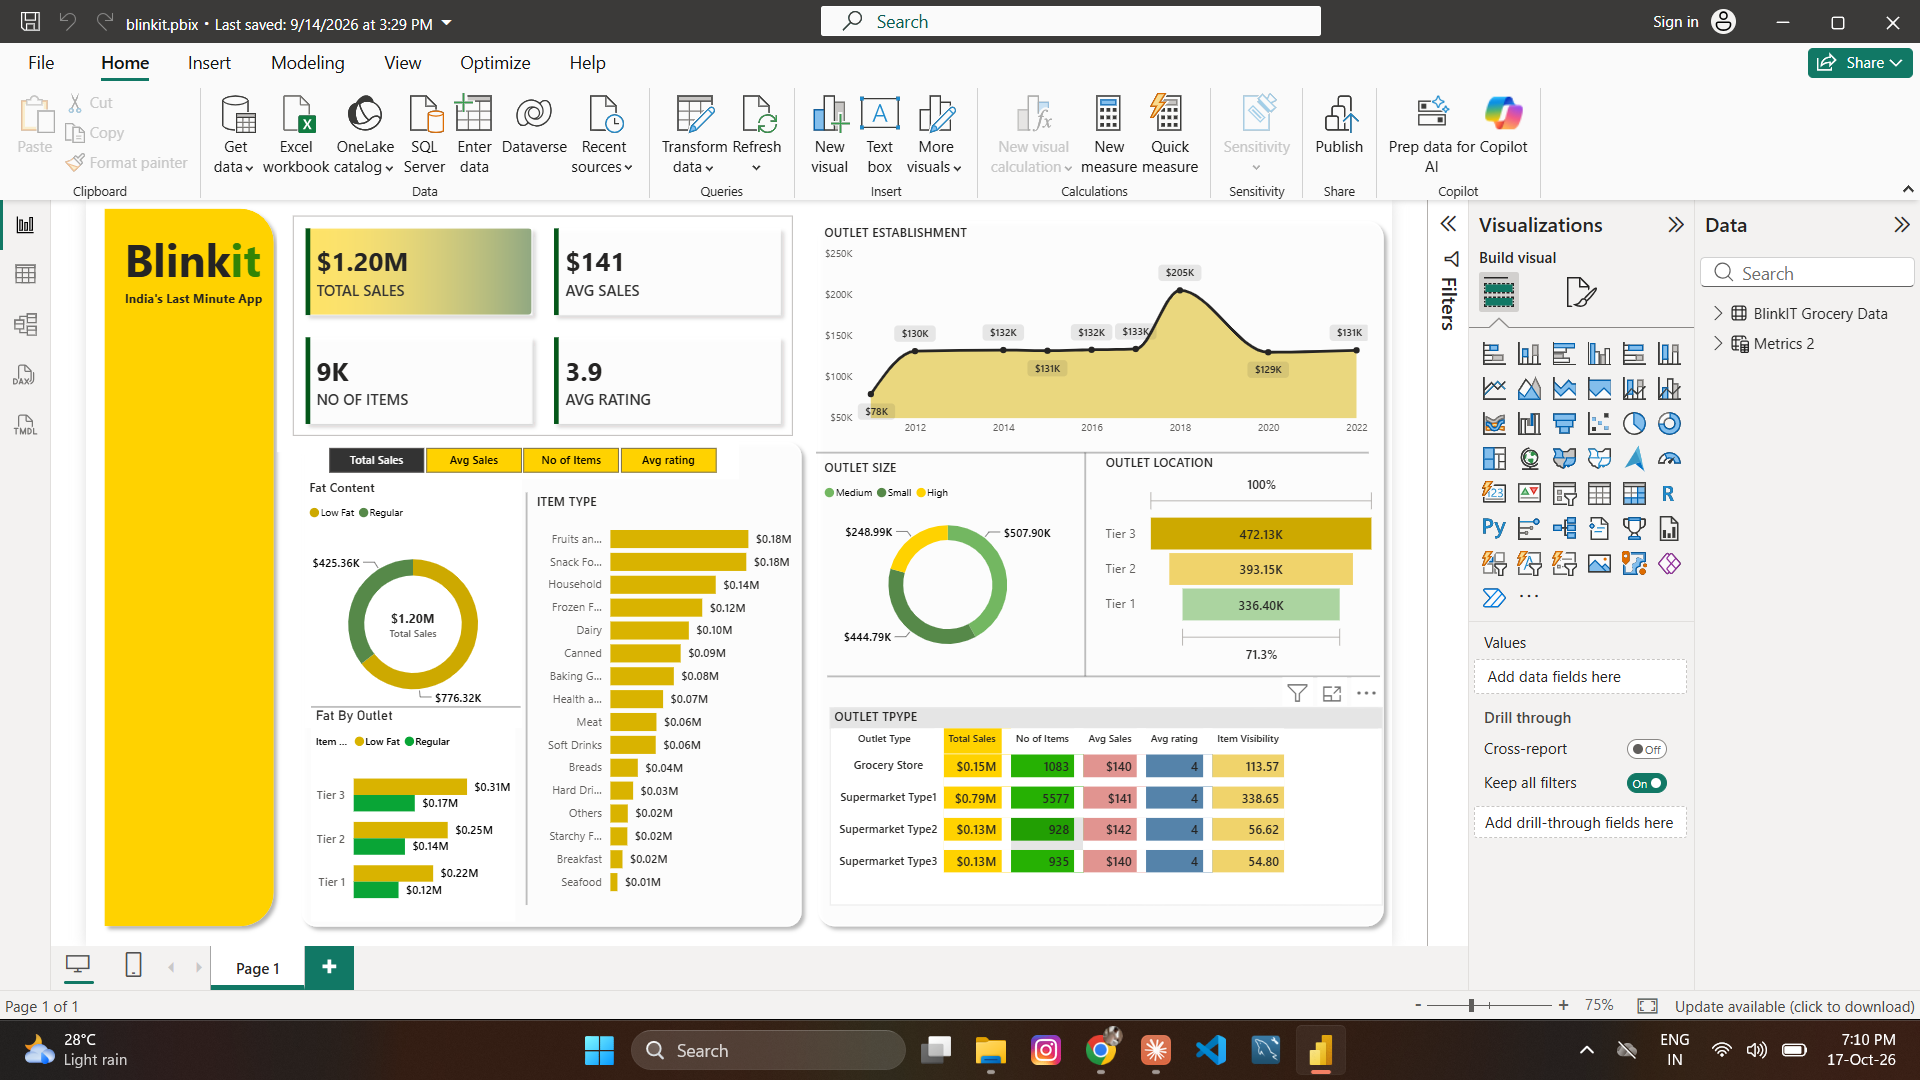

What the dashboard file says about the page in this screenshot:
{"tool":"powerbi","page":{"name":"Page 1","canvas":[1400,800],"ordinal":0},"visuals":[{"type":"shape","box":[10.5,0,199.6,788],"z":0},{"type":"textbox","box":[30,25.5,169.6,81],"z":1000},{"type":"textbox","box":[25.5,91.6,180.1,31.5],"z":2000},{"type":"cardVisual","fields":{"Data":["BlinkIT Grocery Data.Total Sales","BlinkIT Grocery Data.Avg Sales","BlinkIT Grocery Data.No of Items","BlinkIT Grocery Data.Avg rating"]},"box":[205.6,0,570.3,270.2],"z":3000},{"type":"shape","box":[222.1,250.6,553.8,537.3],"z":4000},{"type":"donutChart","title":"Fat Content","fields":{"Y":["BlinkIT Grocery Data.Total Sales"],"Category":["BlinkIT Grocery Data.Item Fat Content"]},"box":[234.1,298.7,232.6,267.2],"z":5000},{"type":"cardVisual","fields":{"Data":["BlinkIT Grocery Data.Total Sales"]},"box":[294.2,411.2,114.1,87.1],"z":6000},{"type":"slicer","fields":{"Values":["Metrics 2.Metrics"]},"box":[234.1,258.1,465.3,40.5],"z":7000},{"type":"clusteredBarChart","title":"Fat By Outlet","fields":{"Y":["BlinkIT Grocery Data.Total Sales"],"Category":["BlinkIT Grocery Data.Outlet Location Type"],"Series":["BlinkIT Grocery Data.Item Fat Content"]},"box":[241.6,544.8,219.1,229.6],"z":8000},{"type":"shape","box":[241.6,531.3,225.1,25.5],"z":9000},{"type":"shape","box":[466.8,313.7,12,442.8],"z":10000},{"type":"barChart","title":"ITEM TYPE","fields":{"Y":["BlinkIT Grocery Data.Total Sales"],"Category":["BlinkIT Grocery Data.Item Type"]},"box":[478.8,313.7,283.7,442.8],"z":11000},{"type":"shape","box":[775.9,13.5,624.4,774.4],"z":12000},{"type":"lineChart","title":"OUTLET ESTABLISHMENT","fields":{"Category":["BlinkIT Grocery Data.Outlet Establishment Year"],"Y":["BlinkIT Grocery Data.Total Sales"]},"box":[786.5,25.5,592.8,235.6],"z":13000},{"type":"shape","box":[795.5,490.8,592.8,40.5],"z":14000},{"type":"donutChart","title":"OUTLET SIZE","fields":{"Y":["BlinkIT Grocery Data.Total Sales"],"Category":["BlinkIT Grocery Data.Outlet Size"]},"box":[786.5,277.7,275,225],"z":15000},{"type":"shape","box":[1062.9,271.4,17.1,240],"z":16000},{"type":"funnel","title":"OUTLET LOCATION","fields":{"Y":["Sum(BlinkIT Grocery Data.Sales)"],"Category":["BlinkIT Grocery Data.Outlet Location Type"]},"box":[1088.1,271.7,300.2,230],"z":17000},{"type":"shape","box":[783.5,250.6,592.8,40.5],"z":18000},{"type":"pivotTable","title":"OUTLET TPYPE","fields":{"Rows":["BlinkIT Grocery Data.Outlet Type"],"Values":["BlinkIT Grocery Data.Total Sales","BlinkIT Grocery Data.No of Items","BlinkIT Grocery Data.Avg Sales","BlinkIT Grocery Data.Avg rating","Sum(BlinkIT Grocery Data.Item Visibility)"]},"box":[797,544.8,592.8,211.6],"z":19000}]}

Visuals, with their boxes on the page's 1400x800 design canvas (x1, y1, x2, y2). These are canvas units, not pixel positions in the 1920x1080 screenshot, which may show the page scaled, cropped or inside an application window:
shape: bbox(10, 0, 210, 788)
textbox: bbox(30, 26, 200, 106)
textbox: bbox(26, 92, 206, 123)
cardVisual - BlinkIT Grocery Data.Total Sales x BlinkIT Grocery Data.Avg Sales: bbox(206, 0, 776, 270)
shape: bbox(222, 251, 776, 788)
"Fat Content" donutChart: bbox(234, 299, 467, 566)
cardVisual - BlinkIT Grocery Data.Total Sales: bbox(294, 411, 408, 498)
slicer - Metrics 2.Metrics: bbox(234, 258, 699, 299)
"Fat By Outlet" clusteredBarChart: bbox(242, 545, 461, 774)
shape: bbox(242, 531, 467, 557)
shape: bbox(467, 314, 479, 756)
"ITEM TYPE" barChart: bbox(479, 314, 762, 756)
shape: bbox(776, 14, 1400, 788)
"OUTLET ESTABLISHMENT" lineChart: bbox(786, 26, 1379, 261)
shape: bbox(796, 491, 1388, 531)
"OUTLET SIZE" donutChart: bbox(786, 278, 1062, 503)
shape: bbox(1063, 271, 1080, 511)
"OUTLET LOCATION" funnel: bbox(1088, 272, 1388, 502)
shape: bbox(784, 251, 1376, 291)
"OUTLET TPYPE" pivotTable: bbox(797, 545, 1390, 756)
